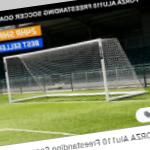goals: (4, 38, 150, 105)
